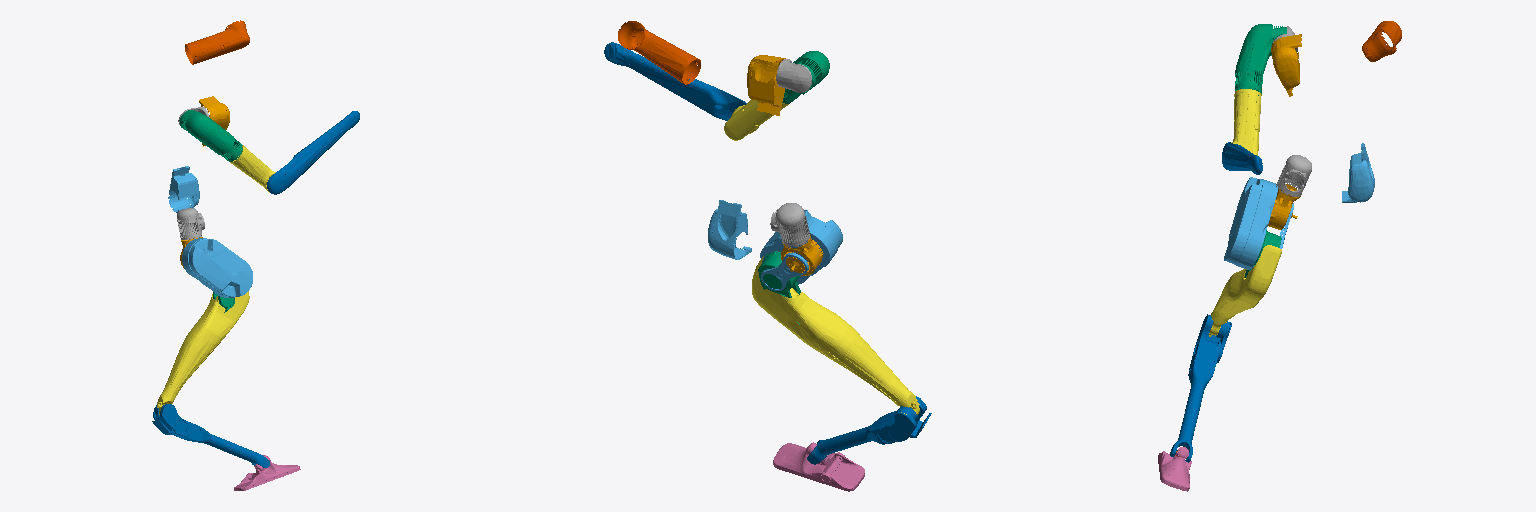
--- Render facts (derived) ---
3 views of the same robot in one strip: view 1: azimuth 30°, elevation 25°; view 2: azimuth 150°, elevation 25°; view 3: azimuth 270°, elevation 25° (orthographic).
Robot: digit — 29 links, 28 joints (22 continuous, 6 fixed); root link torso; default pose: all joints at 0.
Visible links, largest first — view 1: right_shin, right_hip_pitch, right_tarsus, right_elbow, right_shoulder_pitch, left_shoulder_yaw, right_waist_cap, right_toe_roll, right_shoulder_yaw, right_hip_roll, right_shoulder_cap; view 2: right_shin, right_elbow, right_tarsus, right_toe_roll, left_shoulder_yaw, right_hip_pitch, right_waist_cap, right_shoulder_cap, right_hip_roll, right_shoulder_yaw, right_shoulder_roll, right_shoulder_pitch (+2 smaller); view 3: right_hip_pitch, right_tarsus, right_shin, right_shoulder_pitch, right_shoulder_yaw, right_shoulder_cap, right_waist_cap, right_toe_roll, left_shoulder_yaw, right_hip_roll, right_elbow, right_hip_yaw.
Link boxes in pixels (left/top/right/bottom): right_shin: left=157, top=291, right=249, bottom=414; right_hip_pitch: left=182, top=238, right=252, bottom=297; right_tarsus: left=152, top=404, right=269, bottom=467; right_elbow: left=267, top=111, right=359, bottom=194; right_shoulder_pitch: left=179, top=110, right=242, bottom=161; left_shoulder_yaw: left=185, top=20, right=249, bottom=64; right_waist_cap: left=168, top=166, right=199, bottom=212; right_toe_roll: left=234, top=455, right=300, bottom=490; right_shoulder_yaw: left=230, top=145, right=275, bottom=192; right_hip_roll: left=177, top=208, right=204, bottom=239; right_shoulder_cap: left=199, top=96, right=229, bottom=146; right_shin: left=752, top=256, right=919, bottom=414; right_elbow: left=604, top=42, right=746, bottom=120; right_tarsus: left=807, top=396, right=931, bottom=464; right_toe_roll: left=773, top=442, right=864, bottom=491; left_shoulder_yaw: left=618, top=21, right=700, bottom=84; right_hip_pitch: left=760, top=210, right=842, bottom=290; right_waist_cap: left=708, top=200, right=751, bottom=259; right_shoulder_cap: left=747, top=55, right=785, bottom=115; right_hip_roll: left=770, top=203, right=809, bottom=247; right_shoulder_yaw: left=724, top=99, right=788, bottom=140; right_shoulder_roll: left=776, top=59, right=811, bottom=92; right_shoulder_pitch: left=782, top=51, right=829, bottom=103; right_hip_pitch: left=1224, top=177, right=1293, bottom=269; right_tarsus: left=1170, top=314, right=1231, bottom=462; right_shin: left=1209, top=245, right=1281, bottom=336; right_shoulder_pitch: left=1235, top=24, right=1286, bottom=95; right_shoulder_yaw: left=1231, top=89, right=1261, bottom=155; right_shoulder_cap: left=1271, top=34, right=1301, bottom=96; right_waist_cap: left=1342, top=143, right=1374, bottom=202; right_toe_roll: left=1158, top=447, right=1191, bottom=491; left_shoulder_yaw: left=1362, top=21, right=1401, bottom=61; right_hip_roll: left=1276, top=155, right=1311, bottom=196; right_elbow: left=1222, top=142, right=1262, bottom=174; right_hip_yaw: left=1268, top=184, right=1300, bottom=229.
Size in the robot's own frame: 0.8721 by 0.6678 by 1.46 metres.
Meshes: 27 distinct files referenced, 15 mesh visuals loaded (14 OBJ); not drawn: 14 (reference not matched to a file when rendering).

robot.urdf — digit:
<?xml version="1.0" encoding="utf-8"?>
<robot xmlns:drake="http://drake.mit.edu" name="digit">
  <link name="torso">
    <inertial>
      <origin rpy="0 0 0" xyz="0.001637 0.0002 0.259547"/>
      <mass value="15.028392"/>
      <inertia ixx="0.376284" ixy="-8.8e-05" ixz="0.008378" iyy="0.342655" iyz="6.7e-05" izz="0.100648"/>
    </inertial>
    <visual>
      <origin rpy="0 0 0" xyz="0 0 0"/>
      <geometry>
        <mesh filename="meshes/visual/torso.obj"/>
      </geometry>
    </visual>
    <collision name="collision_0000">
      <geometry>
        <mesh filename="meshes/collision/torso_parts/torso_convex_piece_000.obj">
          <drake:declare_convex/>
        </mesh>
      </geometry>
    </collision>
    <collision name="collision_0001">
      <geometry>
        <mesh filename="meshes/collision/torso_parts/torso_convex_piece_001.obj">
          <drake:declare_convex/>
        </mesh>
      </geometry>
    </collision>
    <collision name="collision_0002">
      <geometry>
        <mesh filename="meshes/collision/torso_parts/torso_convex_piece_002.obj">
          <drake:declare_convex/>
        </mesh>
      </geometry>
    </collision>
    <collision name="collision_0003">
      <geometry>
        <mesh filename="meshes/collision/torso_parts/torso_convex_piece_003.obj">
          <drake:declare_convex/>
        </mesh>
      </geometry>
    </collision>
    <collision name="collision_0004">
      <geometry>
        <mesh filename="meshes/collision/torso_parts/torso_convex_piece_004.obj">
          <drake:declare_convex/>
        </mesh>
      </geometry>
    </collision>
    <collision name="collision_0005">
      <geometry>
        <mesh filename="meshes/collision/torso_parts/torso_convex_piece_005.obj">
          <drake:declare_convex/>
        </mesh>
      </geometry>
    </collision>
    <collision name="collision_0006">
      <geometry>
        <mesh filename="meshes/collision/torso_parts/torso_convex_piece_006.obj">
          <drake:declare_convex/>
        </mesh>
      </geometry>
    </collision>
    <collision name="collision_0007">
      <geometry>
        <mesh filename="meshes/collision/torso_parts/torso_convex_piece_007.obj">
          <drake:declare_convex/>
        </mesh>
      </geometry>
    </collision>
    <collision name="collision_0008">
      <geometry>
        <mesh filename="meshes/collision/torso_parts/torso_convex_piece_008.obj">
          <drake:declare_convex/>
        </mesh>
      </geometry>
    </collision>
    <collision name="collision_0009">
      <geometry>
        <mesh filename="meshes/collision/torso_parts/torso_convex_piece_009.obj">
          <drake:declare_convex/>
        </mesh>
      </geometry>
    </collision>
    <collision name="collision_0010">
      <geometry>
        <mesh filename="meshes/collision/torso_parts/torso_convex_piece_010.obj">
          <drake:declare_convex/>
        </mesh>
      </geometry>
    </collision>
    <collision name="collision_0011">
      <geometry>
        <mesh filename="meshes/collision/torso_parts/torso_convex_piece_011.obj">
          <drake:declare_convex/>
        </mesh>
      </geometry>
    </collision>
    <collision name="collision_0012">
      <geometry>
        <mesh filename="meshes/collision/torso_parts/torso_convex_piece_012.obj">
          <drake:declare_convex/>
        </mesh>
      </geometry>
    </collision>
    <collision name="collision_0013">
      <geometry>
        <mesh filename="meshes/collision/torso_parts/torso_convex_piece_013.obj">
          <drake:declare_convex/>
        </mesh>
      </geometry>
    </collision>
    <collision name="collision_0014">
      <geometry>
        <mesh filename="meshes/collision/torso_parts/torso_convex_piece_014.obj">
          <drake:declare_convex/>
        </mesh>
      </geometry>
    </collision>
    <collision name="collision_0015">
      <geometry>
        <mesh filename="meshes/collision/torso_parts/torso_convex_piece_015.obj">
          <drake:declare_convex/>
        </mesh>
      </geometry>
    </collision>
    <collision name="collision_0016">
      <geometry>
        <mesh filename="meshes/collision/torso_parts/torso_convex_piece_016.obj">
          <drake:declare_convex/>
        </mesh>
      </geometry>
    </collision>
    <collision name="collision_0017">
      <geometry>
        <mesh filename="meshes/collision/torso_parts/torso_convex_piece_017.obj">
          <drake:declare_convex/>
        </mesh>
      </geometry>
    </collision>
  </link>
  <link name="left_hip_roll">
    <inertial>
      <origin rpy="0 0 0" xyz="-0.001967 0.000244 0.031435"/>
      <mass value="0.915088"/>
      <inertia ixx="0.001017" ixy="-3e-06" ixz="1.3e-05" iyy="0.001148" iyz="-4e-06" izz="0.000766"/>
    </inertial>
    <visual>
      <origin rpy="0 0 0" xyz="0 0 0"/>
      <geometry>
        <mesh filename="meshes/visual/hip-yaw-housing.obj"/>
      </geometry>
    </visual>
    <collision>
      <origin rpy="0 0 0" xyz="0 0 0"/>
      <geometry>
        <mesh filename="meshes/visual/hip-yaw-housing.obj"/>
      </geometry>
    </collision>
  </link>
  <link name="left_hip_yaw">
    <inertial>
      <origin rpy="0 0 0" xyz="1e-05 -0.001945 0.042033"/>
      <mass value="0.818753"/>
      <inertia ixx="0.001627" ixy="-1e-06" ixz="2e-06" iyy="0.001929" iyz="5.3e-05" izz="0.00077"/>
    </inertial>
    <visual>
      <origin rpy="0 0 0" xyz="0 0 0"/>
      <geometry>
        <mesh filename="meshes/visual/hip-pitch-housing.obj"/>
      </geometry>
    </visual>
    <collision>
      <origin rpy="0 0 0" xyz="0 0 0"/>
      <geometry>
        <mesh filename="meshes/visual/hip-pitch-housing.obj"/>
      </geometry>
    </collision>
  </link>
  <link name="left_hip_pitch">
    <inertial>
      <origin rpy="0 0 0" xyz="0.060537 0.000521 -0.038857"/>
      <mass value="6.244279"/>
      <inertia ixx="0.011533" ixy="-0.000171" ixz="0.000148" iyy="0.033345" iyz="0.000178" izz="0.033958"/>
    </inertial>
    <visual>
      <origin rpy="0 0 0" xyz="0 0 0"/>
      <geometry>
        <mesh filename="meshes/visual/hip-pitch.obj"/>
      </geometry>
    </visual>
    <collision>
      <origin rpy="0 0 0" xyz="0 0 0"/>
      <geometry>
        <mesh filename="meshes/visual/hip-pitch.obj"/>
      </geometry>
    </collision>
  </link>
  <link name="left_knee">
    <inertial>
      <origin rpy="0 0 0" xyz="0.045641 0.042154 0.001657"/>
      <mass value="1.227077"/>
      <inertia ixx="0.002643" ixy="-0.001832" ixz="6.6e-05" iyy="0.005098" iyz="4.5e-05" izz="0.007019"/>
    </inertial>
    <visual>
      <origin rpy="0 0 0" xyz="0 0 0"/>
      <geometry>
        <mesh filename="meshes/visual/knee.obj"/>
      </geometry>
    </visual>
    <collision>
      <origin rpy="0 0 0" xyz="0 0 0"/>
      <geometry>
        <mesh filename="meshes/visual/knee.obj"/>
      </geometry>
    </collision>
  </link>
  <link name="left_shin">
    <inertial>
      <origin rpy="0 0 0" xyz="0.174265 0.010265 0.00107"/>
      <mass value="0.895793"/>
      <inertia ixx="0.001128" ixy="0.001098" ixz="0.000196" iyy="0.022492" iyz="-3e-06" izz="0.022793"/>
    </inertial>
    <visual>
      <origin rpy="0 0 0" xyz="0 0 0"/>
      <geometry>
        <mesh filename="meshes/visual/shin.obj"/>
      </geometry>
    </visual>
    <collision>
      <origin rpy="0 0 0" xyz="0 0 0"/>
      <geometry>
        <mesh filename="meshes/visual/shin.obj"/>
      </geometry>
    </collision>
  </link>
  <link name="left_tarsus">
    <inertial>
      <origin rpy="0 0 0" xyz="0.000932 -0.029183 0.000678"/>
      <mass value="1.322865"/>
      <inertia ixx="0.000932" ixy="0.00061" ixz="0.000102" iyy="0.016409" iyz="9e-06" izz="0.016501"/>
    </inertial>
    <visual>
      <origin rpy="0 0 0" xyz="0 0 0"/>
      <geometry>
        <mesh filename="meshes/visual/tarsus.obj"/>
      </geometry>
    </visual>
    <collision>
      <origin rpy="0 0 0" xyz="0 0 0"/>
      <geometry>
        <mesh filename="meshes/visual/tarsus.obj"/>
      </geometry>
    </collision>
  </link>
  <link name="left_toe_pitch">
    <inertial>
      <origin rpy="0 0 0" xyz="-0.000141 2e-06 3e-06"/>
      <mass value="0.043881"/>
      <inertia ixx="5e-06" ixy="0" ixz="0" iyy="8e-06" iyz="0" izz="5e-06"/>
    </inertial>
    <visual>
      <origin rpy="0 0 0" xyz="0 0 0"/>
      <geometry>
        <mesh filename="meshes/visual/toe-pitch.obj"/>
      </geometry>
    </visual>
    <collision>
      <origin rpy="0 0 0" xyz="0 0 0"/>
      <geometry>
        <mesh filename="meshes/visual/toe-pitch.obj"/>
      </geometry>
    </collision>
  </link>
  <link name="left_toe_roll">
    <inertial>
      <origin rpy="0 0 0" xyz="9e-06 -0.028084 -0.023204"/>
      <mass value="0.531283"/>
      <inertia ixx="0.00187" ixy="0" ixz="0" iyy="0.001616" iyz="0.000566" izz="0.000843"/>
    </inertial>
    <visual>
      <origin rpy="0 0 0" xyz="0 0 0"/>
      <geometry>
        <mesh filename="meshes/visual/toe-roll.obj"/>
      </geometry>
    </visual>
    <collision>
      <origin rpy="0 0 0" xyz="0 0 0"/>
      <geometry>
        <mesh filename="meshes/visual/toe-roll.obj"/>
      </geometry>
    </collision>
  </link>
  <link name="left_shoulder_roll">
    <inertial>
      <origin rpy="0 0 0" xyz="9e-06 -0.003158 0.023405"/>
      <mass value="0.535396"/>
      <inertia ixx="0.000704" ixy="1.4e-05" ixz="1.2e-05" iyy="0.00075" iyz="3.5e-05" izz="0.000298"/>
    </inertial>
    <visual>
      <origin rpy="0 0 0" xyz="0 0 0"/>
      <geometry>
        <mesh filename="meshes/visual/arm-L1.obj"/>
      </geometry>
    </visual>
    <collision name="collision_0000">
      <geometry>
        <mesh filename="meshes/collision/arm-L1_parts/arm-L1_convex_piece_000.obj">
          <drake:declare_convex/>
        </mesh>
      </geometry>
    </collision>
    <collision name="collision_0001">
      <geometry>
        <mesh filename="meshes/collision/arm-L1_parts/arm-L1_convex_piece_001.obj">
          <drake:declare_convex/>
        </mesh>
      </geometry>
    </collision>
    <collision name="collision_0002">
      <geometry>
        <mesh filename="meshes/collision/arm-L1_parts/arm-L1_convex_piece_002.obj">
          <drake:declare_convex/>
        </mesh>
      </geometry>
    </collision>
    <collision name="collision_0003">
      <geometry>
        <mesh filename="meshes/collision/arm-L1_parts/arm-L1_convex_piece_003.obj">
          <drake:declare_convex/>
        </mesh>
      </geometry>
    </collision>
    <collision name="collision_0004">
      <geometry>
        <mesh filename="meshes/collision/arm-L1_parts/arm-L1_convex_piece_004.obj">
          <drake:declare_convex/>
        </mesh>
      </geometry>
    </collision>
    <collision name="collision_0005">
      <geometry>
        <mesh filename="meshes/collision/arm-L1_parts/arm-L1_convex_piece_005.obj">
          <drake:declare_convex/>
        </mesh>
      </geometry>
    </collision>
    <collision name="collision_0006">
      <geometry>
        <mesh filename="meshes/collision/arm-L1_parts/arm-L1_convex_piece_006.obj">
          <drake:declare_convex/>
        </mesh>
      </geometry>
    </collision>
    <collision name="collision_0007">
      <geometry>
        <mesh filename="meshes/collision/arm-L1_parts/arm-L1_convex_piece_007.obj">
          <drake:declare_convex/>
        </mesh>
      </geometry>
    </collision>
  </link>
  <link name="left_shoulder_cap">
    <inertial>
      <origin rpy="0 0 0" xyz="9e-06 -0.003158 0.023405"/>
      <mass value="0.535396"/>
      <inertia ixx="0.000704" ixy="1.4e-05" ixz="1.2e-05" iyy="0.00075" iyz="3.5e-05" izz="0.000298"/>
    </inertial>
    <visual>
      <origin rpy="0 0 0" xyz="0 0 0"/>
      <geometry>
        <mesh filename="meshes/visual/shoulder-roll-housing.obj"/>
      </geometry>
    </visual>
    <collision>
      <origin rpy="0 0 0" xyz="0 0 0"/>
      <geometry>
        <mesh filename="meshes/visual/shoulder-roll-housing.obj"/>
      </geometry>
    </collision>
  </link>
  <link name="left_waist_cap">
    <inertial>
      <origin rpy="0 0 0" xyz="9e-06 -0.003158 0.023405"/>
      <mass value="0.535396"/>
      <inertia ixx="0.000704" ixy="1.4e-05" ixz="1.2e-05" iyy="0.00075" iyz="3.5e-05" izz="0.000298"/>
    </inertial>
    <visual>
      <origin rpy="0 0 0" xyz="0 0 0"/>
      <geometry>
        <mesh filename="meshes/visual/shoulder-roll-housing.obj"/>
      </geometry>
    </visual>
    <collision>
      <origin rpy="0 0 0" xyz="0 0 0"/>
      <geometry>
        <mesh filename="meshes/visual/shoulder-roll-housing.obj"/>
      </geometry>
    </collision>
  </link>
  <link name="left_shoulder_pitch">
    <inertial>
      <origin rpy="0 0 0" xyz="-4.2e-05 -0.061882 -0.073788"/>
      <mass value="1.440357"/>
      <inertia ixx="0.006761" ixy="-6e-06" ixz="-3e-06" iyy="0.002087" iyz="-0.002046" izz="0.005778"/>
    </inertial>
    <visual>
      <origin rpy="0 0 0" xyz="0 0 0"/>
      <geometry>
        <mesh filename="meshes/visual/arm-L2.obj"/>
      </geometry>
    </visual>
    <collision name="collision_0000">
      <geometry>
        <mesh filename="meshes/collision/arm-L2_parts/arm-L2_convex_piece_000.obj">
          <drake:declare_convex/>
        </mesh>
      </geometry>
    </collision>
    <collision name="collision_0001">
      <geometry>
        <mesh filename="meshes/collision/arm-L2_parts/arm-L2_convex_piece_001.obj">
          <drake:declare_convex/>
        </mesh>
      </geometry>
    </collision>
    <collision name="collision_0002">
      <geometry>
        <mesh filename="meshes/collision/arm-L2_parts/arm-L2_convex_piece_002.obj">
          <drake:declare_convex/>
        </mesh>
      </geometry>
    </collision>
    <collision name="collision_0003">
      <geometry>
        <mesh filename="meshes/collision/arm-L2_parts/arm-L2_convex_piece_003.obj">
          <drake:declare_convex/>
        </mesh>
      </geometry>
    </collision>
  </link>
  <link name="left_shoulder_yaw">
    <inertial>
      <origin rpy="0 0 0" xyz="-3e-05 -0.001937 0.11407"/>
      <mass value="1.065387"/>
      <inertia ixx="0.006967" ixy="1e-06" ixz="-1e-06" iyy="0.007003" iyz="1.5e-05" izz="0.000673"/>
    </inertial>
    <visual>
      <origin rpy="0 0 0" xyz="0 0 0"/>
      <geometry>
        <mesh filename="meshes/visual/arm-L3.obj"/>
      </geometry>
    </visual>
    <collision name="collision_0000">
      <geometry>
        <mesh filename="meshes/collision/arm-L3_parts/arm-L3_convex_piece_000.obj">
          <drake:declare_convex/>
        </mesh>
      </geometry>
    </collision>
    <collision name="collision_0001">
      <geometry>
        <mesh filename="meshes/collision/arm-L3_parts/arm-L3_convex_piece_001.obj">
          <drake:declare_convex/>
        </mesh>
      </geometry>
    </collision>
    <collision name="collision_0002">
      <geometry>
        <mesh filename="meshes/collision/arm-L3_parts/arm-L3_convex_piece_002.obj">
          <drake:declare_convex/>
        </mesh>
      </geometry>
    </collision>
    <collision name="collision_0003">
      <geometry>
        <mesh filename="meshes/collision/arm-L3_parts/arm-L3_convex_piece_003.obj">
          <drake:declare_convex/>
        </mesh>
      </geometry>
    </collision>
  </link>
  <link name="left_elbow">
    <inertial>
      <origin rpy="0 0 0" xyz="0.107996 -0.000521 -0.017765"/>
      <mass value="0.550582"/>
      <inertia ixx="0.000476" ixy="-2.9e-05" ixz="0.001403" iyy="0.009564" iyz="9e-06" izz="9.437e-03"/>
    </inertial>
    <visual>
      <origin rpy="0 0 0" xyz="0 0 0"/>
      <geometry>
        <mesh filename="meshes/visual/arm-L4.obj"/>
      </geometry>
    </visual>
    <collision name="collision_0000">
      <geometry>
        <mesh filename="meshes/collision/arm-L4_parts/arm-L4_convex_piece_000.obj">
          <drake:declare_convex/>
        </mesh>
      </geometry>
    </collision>
    <collision name="collision_0001">
      <geometry>
        <mesh filename="meshes/collision/arm-L4_parts/arm-L4_convex_piece_001.obj">
          <drake:declare_convex/>
        </mesh>
      </geometry>
    </collision>
    <collision name="collision_0002">
      <geometry>
        <mesh filename="meshes/collision/arm-L4_parts/arm-L4_convex_piece_002.obj">
          <drake:declare_convex/>
        </mesh>
      </geometry>
    </collision>
    <collision name="collision_0003">
      <geometry>
        <mesh filename="meshes/collision/arm-L4_parts/arm-L4_convex_piece_003.obj">
          <drake:declare_convex/>
        </mesh>
      </geometry>
    </collision>
    <collision name="collision_0004">
      <geometry>
        <mesh filename="meshes/collision/arm-L4_parts/arm-L4_convex_piece_004.obj">
          <drake:declare_convex/>
        </mesh>
      </geometry>
    </collision>
    <collision name="collision_0005">
      <geometry>
        <mesh filename="meshes/collision/arm-L4_parts/arm-L4_convex_piece_005.obj">
          <drake:declare_convex/>
        </mesh>
      </geometry>
    </collision>
  </link>
  <link name="right_hip_roll">
    <inertial>
      <origin rpy="0 0 0" xyz="-0.001967 -0.000244 0.031435"/>
      <mass value="0.915088"/>
      <inertia ixx="0.001017" ixy="3e-06" ixz="1.3e-05" iyy="0.001148" iyz="4e-06" izz="0.000766"/>
    </inertial>
    <visual>
      <origin rpy="0 0 0" xyz="0 0 0"/>
      <geometry>
        <mesh filename="meshes/visual/hip-yaw-housing-mirror.obj"/>
      </geometry>
    </visual>
    <collision>
      <origin rpy="0 0 0" xyz="0 0 0"/>
      <geometry>
        <mesh filename="meshes/visual/hip-yaw-housing-mirror.obj"/>
      </geometry>
    </collision>
  </link>
  <link name="right_hip_yaw">
    <inertial>
      <origin rpy="0 0 0" xyz="1e-05 0.001945 0.042033"/>
      <mass value="0.818753"/>
      <inertia ixx="0.001627" ixy="1e-06" ixz="2e-06" iyy="0.001929" iyz="-5.3e-05" izz="0.00077"/>
    </inertial>
    <visual>
      <origin rpy="0 0 0" xyz="0 0 0"/>
      <geometry>
        <mesh filename="meshes/visual/hip-pitch-housing-mirror.obj"/>
      </geometry>
    </visual>
    <collision>
      <origin rpy="0 0 0" xyz="0 0 0"/>
      <geometry>
        <mesh filename="meshes/visual/hip-pitch-housing-mirror.obj"/>
      </geometry>
    </collision>
  </link>
  <link name="right_hip_pitch">
    <inertial>
      <origin rpy="0 0 0" xyz="0.060537 -0.000521 -0.038857"/>
      <mass value="6.244279"/>
      <inertia ixx="0.011533" ixy="0.000171" ixz="0.000148" iyy="0.033345" iyz="-0.000178" izz="0.033958"/>
    </inertial>
    <visual>
      <origin rpy="0 0 0" xyz="0 0 0"/>
      <geometry>
        <mesh filename="meshes/visual/hip-pitch-mirror.obj"/>
      </geometry>
    </visual>
    <collision>
      <origin rpy="0 0 0" xyz="0 0 0"/>
      <geometry>
        <mesh filename="meshes/visual/hip-pitch-mirror.obj"/>
      </geometry>
    </collision>
  </link>
  <link name="right_knee">
    <inertial>
      <origin rpy="0 0 0" xyz="0.045641 -0.042154 0.001657"/>
      <mass value="1.227077"/>
      <inertia ixx="0.002643" ixy="0.001832" ixz="6.6e-05" iyy="0.005098" iyz="-4.5e-05" izz="0.007019"/>
    </inertial>
    <visual>
      <origin rpy="0 0 0" xyz="0 0 0"/>
      <geometry>
        <mesh filename="meshes/visual/knee-mirror.obj"/>
      </geometry>
    </visual>
    <collision>
      <origin rpy="0 0 0" xyz="0 0 0"/>
      <geometry>
        <mesh filename="meshes/visual/knee-mirror.obj"/>
      </geometry>
    </collision>
  </link>
  <link name="right_shin">
    <inertial>
      <origin rpy="0 0 0" xyz="0.174265 -0.010265 0.00107"/>
      <mass value="0.895793"/>
      <inertia ixx="0.001128" ixy="-0.001098" ixz="0.000196" iyy="0.022492" iyz="3e-06" izz="0.022793"/>
    </inertial>
    <visual>
      <origin rpy="0 0 0" xyz="0 0 0"/>
      <geometry>
        <mesh filename="meshes/visual/shin-mirror.obj"/>
      </geometry>
    </visual>
    <collision>
      <origin rpy="0 0 0" xyz="0 0 0"/>
      <geometry>
        <mesh filename="meshes/visual/shin-mirror.obj"/>
      </geometry>
    </collision>
  </link>
  <link name="right_tarsus">
    <inertial>
      <origin rpy="0 0 0" xyz="0.000932 0.029183 0.000678"/>
      <mass value="1.322865"/>
      <inertia ixx="0.000932" ixy="-0.00061" ixz="0.000102" iyy="0.016409" iyz="-9e-06" izz="0.016501"/>
    </inertial>
    <visual>
      <origin rpy="0 0 0" xyz="0 0 0"/>
      <geometry>
        <mesh filename="meshes/visual/tarsus-mirror.obj"/>
      </geometry>
    </visual>
    <collision>
      <origin rpy="0 0 0" xyz="0 0 0"/>
      <geometry>
        <mesh filename="meshes/visual/tarsus-mirror.obj"/>
      </geometry>
    </collision>
  </link>
  <link name="right_toe_pitch">
    <inertial>
      <origin rpy="0 0 0" xyz="-0.000141 -2e-06 3e-06"/>
      <mass value="0.043881"/>
      <inertia ixx="5e-06" ixy="0" ixz="0" iyy="8e-06" iyz="0" izz="5e-06"/>
    </inertial>
    <visual>
      <origin rpy="0 0 0" xyz="0 0 0"/>
      <geometry>
        <mesh filename="meshes/visual/toe-pitch-mirror.obj"/>
      </geometry>
    </visual>
    <collision>
      <origin rpy="0 0 0" xyz="0 0 0"/>
      <geometry>
        <mesh filename="meshes/visual/toe-pitch-mirror.obj"/>
      </geometry>
    </collision>
  </link>
  <link name="right_toe_roll">
    <inertial>
      <origin rpy="0 0 0" xyz="9e-06 0.028084 -0.023204"/>
      <mass value="0.531283"/>
      <inertia ixx="0.00187" ixy="0" ixz="0" iyy="0.001616" iyz="-0.000566" izz="0.000843"/>
    </inertial>
    <visual>
      <origin rpy="0 0 0" xyz="0 0 0"/>
      <geometry>
        <mesh filename="meshes/visual/toe-roll-mirror.obj"/>
      </geometry>
    </visual>
    <collision>
      <origin rpy="0 0 0" xyz="0 0 0"/>
      <geometry>
        <mesh filename="meshes/visual/toe-roll-mirror.obj"/>
      </geometry>
    </collision>
  </link>
  <link name="right_shoulder_roll">
    <inertial>
      <origin rpy="0 0 0" xyz="9e-06 0.003158 0.023405"/>
      <mass value="0.535396"/>
      <inertia ixx="0.000704" ixy="-1.4e-05" ixz="1.2e-05" iyy="0.00075" iyz="-3.5e-05" izz="0.000298"/>
    </inertial>
    <visual>
      <origin rpy="0 0 0" xyz="0 0 0"/>
      <geometry>
        <mesh filename="meshes/visual/arm-L1-mirror.obj"/>
      </geometry>
    </visual>
    <collision name="collision_0000">
      <geometry>
        <mesh filename="meshes/collision/arm-L1-mirror_parts/arm-L1-mirror_convex_piece_000.obj">
          <drake:declare_convex/>
        </mesh>
      </geometry>
    </collision>
    <collision name="collision_0001">
      <geometry>
        <mesh filename="meshes/collision/arm-L1-mirror_parts/arm-L1-mirror_convex_piece_001.obj">
          <drake:declare_convex/>
        </mesh>
      </geometry>
    </collision>
    <collision name="collision_0002">
      <geometry>
        <mesh filename="meshes/collision/arm-L1-mirror_parts/arm-L1-mirror_convex_piece_002.obj">
          <drake:declare_convex/>
        </mesh>
      </geometry>
    </collision>
    <collision name="collision_0003">
      <geometry>
        <mesh filename="meshes/collision/arm-L1-mirror_parts/arm-L1-mirror_convex_piece_003.obj">
          <drake:declare_convex/>
        </mesh>
      </geometry>
    </collision>
    <collision name="collision_0004">
      <geometry>
        <mesh filename="meshes/collision/arm-L1-mirror_parts/arm-L1-mirror_convex_piece_004.obj">
          <drake:declare_convex/>
        </mesh>
      </geometry>
    </collision>
    <collision name="collision_0005">
      <geometry>
        <mesh filename="meshes/collision/arm-L1-mirror_parts/arm-L1-mirror_convex_piece_005.obj">
          <drake:declare_convex/>
        </mesh>
      </geometry>
    </collision>
    <collision name="collision_0006">
      <geometry>
        <mesh filename="meshes/collision/arm-L1-mirror_parts/arm-L1-mirror_convex_piece_006.obj">
          <drake:declare_convex/>
        </mesh>
      </geometry>
    </collision>
    <collision name="collision_0007">
      <geometry>
        <mesh filename="meshes/collision/arm-L1-mirror_parts/arm-L1-mirror_convex_piece_007.obj">
          <drake:declare_convex/>
        </mesh>
      </geometry>
    </collision>
  </link>
  <link name="right_shoulder_cap">
    <inertial>
      <origin rpy="0 0 0" xyz="9e-06 0.003158 0.023405"/>
      <mass value="0.535396"/>
      <inertia ixx="0.000704" ixy="-1.4e-05" ixz="1.2e-05" iyy="0.00075" iyz="-3.5e-05" izz="0.000298"/>
    </inertial>
    <visual>
      <origin rpy="0 0 0" xyz="0 0 0"/>
      <geometry>
        <mesh filename="meshes/visual/shoulder-roll-housing-mirror.obj"/>
      </geometry>
    </visual>
    <collision>
      <origin rpy="0 0 0" xyz="0 0 0"/>
      <geometry>
        <mesh filename="meshes/visual/shoulder-roll-housing-mirror.obj"/>
      </geometry>
    </collision>
  </link>
  <link name="right_waist_cap">
    <inertial>
      <origin rpy="0 0 0" xyz="9e-06 0.003158 0.023405"/>
      <mass value="0.535396"/>
      <inertia ixx="0.000704" ixy="-1.4e-05" ixz="1.2e-05" iyy="0.00075" iyz="-3.5e-05" izz="0.000298"/>
    </inertial>
    <visual>
      <origin rpy="0 0 0" xyz="0 0 0"/>
      <geometry>
        <mesh filename="meshes/visual/shoulder-roll-housing-mirror.obj"/>
      </geometry>
    </visual>
    <collision>
      <origin rpy="0 0 0" xyz="0 0 0"/>
      <geometry>
        <mesh filename="meshes/visual/shoulder-roll-housing-mirror.obj"/>
      </geometry>
    </collision>
  </link>
  <link name="right_shoulder_pitch">
    <inertial>
      <origin rpy="0 0 0" xyz="-4.2e-05 0.061882 -0.073788"/>
      <mass value="1.440357"/>
      <inertia ixx="0.006761" ixy="6e-06" ixz="-3e-06" iyy="0.002087" iyz="0.002046" izz="0.005778"/>
    </inertial>
    <visual>
      <origin rpy="0 0 0" xyz="0 0 0"/>
      <geometry>
        <mesh filename="meshes/visual/arm-L2-mirror.obj"/>
      </geometry>
    </visual>
    <collision name="collision_0000">
      <geometry>
        <mesh filename="meshes/collision/arm-L2-mirror_parts/arm-L2-mirror_convex_piece_000.obj">
          <drake:declare_convex/>
        </mesh>
      </geometry>
    </collision>
    <collision name="collision_0001">
      <geometry>
        <mesh filename="meshes/collision/arm-L2-mirror_parts/arm-L2-mirror_convex_piece_001.obj">
          <drake:declare_convex/>
        </mesh>
      </geometry>
    </collision>
    <collision name="collision_0002">
      <geometry>
        <mesh filename="meshes/collision/arm-L2-mirror_parts/arm-L2-mirror_convex_piece_002.obj">
          <drake:declare_convex/>
        </mesh>
      </geometry>
    </collision>
    <collision name="collision_0003">
      <geometry>
        <mesh filename="meshes/collision/arm-L2-mirror_parts/arm-L2-mirror_convex_piece_003.obj">
          <drake:declare_convex/>
        </mesh>
      </geometry>
    </collision>
  </link>
  <link name="right_shoulder_yaw">
    <inertial>
      <origin rpy="0 0 0" xyz="-3e-05 0.001937 0.11407"/>
      <mass value="1.065387"/>
      <inertia ixx="0.006967" ixy="-1e-06" ixz="-1e-06" iyy="0.007003" iyz="-1.5e-05" izz="0.000673"/>
    </inertial>
    <visual>
      <origin rpy="0 0 0" xyz="0 0 0"/>
      <geometry>
        <mesh filename="meshes/visual/arm-L3-mirror.obj"/>
      </geometry>
    </visual>
    <collision name="collision_0000">
      <geometry>
        <mesh filename="meshes/collision/arm-L3-mirror_parts/arm-L3-mirror_convex_piece_000.obj">
          <drake:declare_convex/>
        </mesh>
      </geometry>
    </collision>
    <collision name="collision_0001">
      <geometry>
        <mesh filename="meshes/collision/arm-L3-mirror_parts/arm-L3-mirror_convex_piece_001.obj">
          <drake:declare_convex/>
        </mesh>
      </geometry>
    </collision>
    <collision name="collision_0002">
      <geometry>
        <mesh filename="meshes/collision/arm-L3-mirror_parts/arm-L3-mirror_convex_piece_002.obj">
          <drake:declare_convex/>
        </mesh>
      </geometry>
    </collision>
    <collision name="collision_0003">
      <geometry>
        <mesh filename="meshes/collision/arm-L3-mirror_parts/arm-L3-mirror_convex_piece_003.obj">
          <drake:declare_convex/>
        </mesh>
      </geometry>
    </collision>
  </link>
  <link name="right_elbow">
    <inertial>
      <origin rpy="0 0 0" xyz="0.107996 0.000521 -0.017765"/>
      <mass value="0.550582"/>
      <inertia ixx="0.000476" ixy="2.9e-05" ixz="0.001403" iyy="0.009564" iyz="-9e-06" izz="0.009437"/>
    </inertial>
    <visual>
      <origin rpy="0 0 0" xyz="0 0 0"/>
      <geometry>
        <mesh filename="meshes/visual/arm-L4-mirror.obj"/>
      </geometry>
    </visual>
    <collision name="collision_0000">
      <geometry>
        <mesh filename="meshes/collision/arm-L4-mirror_parts/arm-L4-mirror_convex_piece_000.obj">
          <drake:declare_convex/>
        </mesh>
      </geometry>
    </collision>
    <collision name="collision_0001">
      <geometry>
        <mesh filename="meshes/collision/arm-L4-mirror_parts/arm-L4-mirror_convex_piece_001.obj">
          <drake:declare_convex/>
        </mesh>
      </geometry>
    </collision>
    <collision name="collision_0002">
      <geometry>
        <mesh filename="meshes/collision/arm-L4-mirror_parts/arm-L4-mirror_convex_piece_002.obj">
          <drake:declare_convex/>
        </mesh>
      </geometry>
    </collision>
    <collision name="collision_0003">
      <geometry>
        <mesh filename="meshes/collision/arm-L4-mirror_parts/arm-L4-mirror_convex_piece_003.obj">
          <drake:declare_convex/>
        </mesh>
      </geometry>
    </collision>
    <collision name="collision_0004">
      <geometry>
        <mesh filename="meshes/collision/arm-L4-mirror_parts/arm-L4-mirror_convex_piece_004.obj">
          <drake:declare_convex/>
        </mesh>
      </geometry>
    </collision>
    <collision name="collision_0005">
      <geometry>
        <mesh filename="meshes/collision/arm-L4-mirror_parts/arm-L4-mirror_convex_piece_005.obj">
          <drake:declare_convex/>
        </mesh>
      </geometry>
    </collision>
  </link>
  <joint name="hip_abduction_left" type="continuous">
    <origin rpy="1.57079632679 -1.1955506 -1.57079632679" xyz="-0.001 0.091 0"/>
    <axis xyz="0 0 1"/>
    <parent link="torso"/>
    <child link="left_hip_roll"/>
    <limit effort="1.4" lower="-1.0472" upper="1.0472" velocity="12.15"/>
  </joint>
  <joint name="hip_rotation_left" type="continuous">
    <origin rpy="0 -1.57079632679 0" xyz="-0.0505 0 0.044"/>
    <axis xyz="0 0 1"/>
    <parent link="left_hip_roll"/>
    <child link="left_hip_yaw"/>
    <limit effort="1.4" lower="-0.698132" upper="0.698132" velocity="12.15"/>
  </joint>
  <joint name="hip_flexion_left" type="continuous">
    <origin rpy="-1.57079632679 -0.785398163397 3.14159265359" xyz="0 0.004 0.068"/>
    <axis xyz="0 0 -1"/>
    <parent link="left_hip_yaw"/>
    <child link="left_hip_pitch"/>
    <limit effort="12.5" lower="-1.0472" upper="1.57079632679" velocity="8.5"/>
  </joint>
  <joint name="knee_joint_left" type="continuous">
    <origin rpy="0 0 -1.57079632679" xyz="0.12 0 0.0045"/>
    <axis xyz="0 0 1"/>
    <parent link="left_hip_pitch"/>
    <child link="left_knee"/>
    <limit effort="12.5" lower="-1.2392" upper="0.8727" velocity="8.5085"/>
  </joint>
  <joint name="knee_to_shin_left" type="fixed">
    <origin rpy="0 0 0" xyz="0.060677 0.047406 0"/>
    <axis xyz="0 0 1"/>
    <parent link="left_knee"/>
    <child link="left_shin"/>
    <limit effort="0" lower="-0.35" upper="0.35" velocity="10"/>
  </joint>
  <joint name="shin_to_tarsus_left" type="continuous">
    <origin rpy="0 0 1.7976891" xyz="0.434759 0.02 0"/>
    <axis xyz="0 0 1"/>
    <parent link="left_shin"/>
    <child link="left_tarsus"/>
    <limit effort="0" lower="-0.8779" upper="1.2497" velocity="20"/>
  </joint>
  <joint name="toe_pitch_joint_left" type="continuous">
    <origin rpy="0 0 1.1956" xyz="0.408 -0.04 0"/>
    <axis xyz="0 0 1"/>
    <parent link="left_tarsus"/>
    <child link="left_toe_pitch"/>
    <limit effort="0.9" lower="-0.785398163397" upper="0.785398163397" velocity="11.5"/>
  </joint>
  <joint name="toe_roll_joint_left" type="continuous">
    <origin rpy="0 1.57079632679 0" xyz="0 0 0"/>
    <axis xyz="0 0 1"/>
    <parent link="left_toe_pitch"/>
    <child link="left_toe_roll"/>
    <limit effort="0.9" lower="-0.6109" upper="0.6109" velocity="11.5"/>
  </joint>
  <joint name="shoulder_roll_joint_left" type="continuous">
    <origin rpy="-1.57079632679 -1.3962633 1.57079632679" xyz="-0.001 0.12 0.4"/>
    <axis xyz="0 0 1"/>
    <parent link="torso"/>
    <child link="left_shoulder_roll"/>
    <limit effort="1.4" lower="-1.309" upper="1.309" velocity="12.5"/>
    <actuator> drake:gear_ratio="80" drake:rotor_inertia="0.173824"</actuator>
  </joint>
  <joint name="shoulder_roll_cap_left" type="fixed">
    <origin rpy="-1.57079632679 -1.3962633 1.57079632679" xyz="0.001 0.12 0.4"/>
    <axis xyz="0 0 1"/>
    <parent link="torso"/>
    <child link="left_shoulder_cap"/>
    <limit effort="1.4" lower="-1.309" upper="1.309" velocity="12.5"/>
  </joint>
  <joint name="shoulder_pitch_joint_left" type="continuous">
    <origin rpy="1.57079632679 -0.279253 -0.7853987" xyz="-0.00317 -0.011055 0.0555"/>
    <axis xyz="0 0 -1"/>
    <parent link="left_shoulder_roll"/>
    <child link="left_shoulder_pitch"/>
    <limit effort="1.4" lower="-2.5307" upper="2.5307" velocity="12.5"/>
    <actuator> drake:gear_ratio="80" drake:rotor_inertia="0.173824"</actuator>
  </joint>
  <joint name="shoulder_yaw_joint_left" type="continuous">
    <origin rpy="1.57079632679 0 0" xyz="0 -0.165 -0.1"/>
    <axis xyz="0 0 1"/>
    <parent link="left_shoulder_pitch"/>
    <child link="left_shoulder_yaw"/>
    <limit effort="1.4" lower="-1.7453" upper="1.7453" velocity="10"/>
    <actuator> drake:gear_ratio="50" drake:rotor_inertia="0.0679"</actuator>
  </joint>
  <joint name="elbow_joint_left" type="continuous">
    <origin rpy="1.57079632679 -0.3926991 0" xyz="0 -0.0385 0.185"/>
    <axis xyz="0 0 1"/>
    <parent link="left_shoulder_yaw"/>
    <child link="left_elbow"/>
    <limit effort="1.4" lower="-1.3526" upper="1.3526" velocity="12.5"/>
    <actuator> drake:gear_ratio="80" drake:rotor_inertia="0.173824"</actuator>
  </joint>
  <joint name="hip_abduction_right" type="continuous">
    <origin rpy="-1.57079632679 -1.1955506 1.57079632679" xyz="-0.001 -0.091 0"/>
    <axis xyz="0 0 1"/>
    <parent link="torso"/>
    <child link="right_hip_roll"/>
    <limit effort="1.4" lower="-1.0472" upper="1.0472" velocity="12.15"/>
  </joint>
  <joint name="hip_rotation_right" type="continuous">
    <origin rpy="0 -1.57079632679 0" xyz="-0.0505 0 0.044"/>
    <axis xyz="0 0 1"/>
    <parent link="right_hip_roll"/>
    <child link="right_hip_yaw"/>
    <limit effort="1.4" lower="-0.698132" upper="0.698132" velocity="12.15"/>
  </joint>
  <joint name="hip_flexion_right" type="continuous">
    <origin rpy="1.57079632679 -0.785398163397 -3.14159265359" xyz="0 -0.004 0.068"/>
    <axis xyz="0 0 -1"/>
    <parent link="right_hip_yaw"/>
    <child link="right_hip_pitch"/>
    <limit effort="12.5" lower="-1.57079632679" upper="1.0472" velocity="8.5"/>
  </joint>
  <joint name="knee_joint_right" type="continuous">
    <origin rpy="0 0 1.57079632679" xyz="0.12 0 0.0045"/>
    <axis xyz="0 0 1"/>
    <parent link="right_hip_pitch"/>
    <child link="right_knee"/>
    <limit effort="12.5" lower="-0.8727" upper="1.2392" velocity="8.5085"/>
  </joint>
  <joint name="knee_to_shin_right" type="fixed">
    <origin rpy="0 0 0" xyz="0.060677 -0.047406 0"/>
    <axis xyz="0 0 1"/>
    <parent link="right_knee"/>
    <child link="right_shin"/>
    <limit effort="0" lower="-0.35" upper="0.35" velocity="10"/>
  </joint>
  <joint name="shin_to_tarsus_right" type="continuous">
    <origin rpy="0 0 -1.7976891" xyz="0.434759 -0.02 0"/>
    <axis xyz="0 0 1"/>
    <parent link="right_shin"/>
    <child link="right_tarsus"/>
    <limit effort="0" lower="-1.2497" upper="0.8779" velocity="20"/>
  </joint>
  <joint name="toe_pitch_joint_right" type="continuous">
    <origin rpy="0 0 -1.1956" xyz="0.408 0.04 0"/>
    <axis xyz="0 0 1"/>
    <parent link="right_tarsus"/>
    <child link="right_toe_pitch"/>
    <limit effort="0.9" lower="-0.785398163397" upper="0.785398163397" velocity="11.5"/>
  </joint>
  <joint name="toe_roll_joint_right" type="continuous">
    <origin rpy="0 1.57079632679 0" xyz="0 0 0"/>
    <axis xyz="0 0 1"/>
    <parent link="right_toe_pitch"/>
    <child link="right_toe_roll"/>
    <limit effort="0.9" lower="-0.6109" upper="0.6109" velocity="11.5"/>
  </joint>
  <joint name="shoulder_roll_joint_right" type="continuous">
    <origin rpy="1.57079632679 -1.3962633 -1.57079632679" xyz="-0.001 -0.12 0.4"/>
    <axis xyz="0 0 1"/>
    <parent link="torso"/>
    <child link="right_shoulder_roll"/>
    <limit effort="1.4" lower="-1.309" upper="1.309" velocity="12.5"/>
    <actuator> drake:gear_ratio="80" drake:rotor_inertia="0.173824"</actuator>
  </joint>
  <joint name="shoulder_cap_joint_right" type="fixed">
    <origin rpy="1.57079632679 -1.3962633 -1.57079632679" xyz="0.001 -0.12 0.4"/>
    <axis xyz="0 0 1"/>
    <parent link="torso"/>
    <child link="right_shoulder_cap"/>
    <limit effort="1.4" lower="-1.309" upper="1.309" velocity="12.5"/>
  </joint>
  <joint name="waist_cap_joint_right" type="fixed">
    <origin rpy="1.57079632679 1.57 -1.57079632679" xyz="-0.001 -0.09 0.0"/>
    <axis xyz="0 0 1"/>
    <parent link="torso"/>
    <child link="left_waist_cap"/>
    <limit effort="1.4" lower="-1.309" upper="1.309" velocity="12.5"/>
  </joint>
  <joint name="waist_cap_joint_left" type="fixed">
    <origin rpy="-1.57079632679 1.57 1.57079632679" xyz="-0.001 0.09 0.0"/>
    <axis xyz="0 0 1"/>
    <parent link="torso"/>
    <child link="right_waist_cap"/>
    <limit effort="1.4" lower="-1.309" upper="1.309" velocity="12.5"/>
  </joint>
  <joint name="shoulder_pitch_joint_right" type="continuous">
    <origin rpy="-1.57079632679 0.785398163397 0.2792527" xyz="-0.00317 0.011055 0.0555"/>
    <axis xyz="0 0 -1"/>
    <parent link="right_shoulder_roll"/>
    <child link="right_shoulder_pitch"/>
    <limit effort="1.4" lower="-2.5307" upper="2.5307" velocity="12.5"/>
    <actuator> drake:gear_ratio="80" drake:rotor_inertia="0.173824"</actuator>
  </joint>
  <joint name="shoulder_yaw_joint_right" type="continuous">
    <origin rpy="-1.57079632679 0 0" xyz="0 0.165 -0.1"/>
    <axis xyz="0 0 1"/>
    <parent link="right_shoulder_pitch"/>
    <child link="right_shoulder_yaw"/>
    <limit effort="1.4" lower="-1.7453" upper="1.7453" velocity="10"/>
    <actuator> drake:gear_ratio="50" drake:rotor_inertia="0.0679"</actuator>
  </joint>
  <joint name="elbow_joint_right" type="continuous">
    <origin rpy="-1.57079632679 -0.3926991 0" xyz="0 0.0385 0.185"/>
    <axis xyz="0 0 1"/>
    <parent link="right_shoulder_yaw"/>
    <child link="right_elbow"/>
    <limit effort="1.4" lower="-1.3526" upper="1.3526" velocity="12.5"/>
    <actuator> drake:gear_ratio="80" drake:rotor_inertia="0.173824"</actuator>
  </joint>
</robot>
